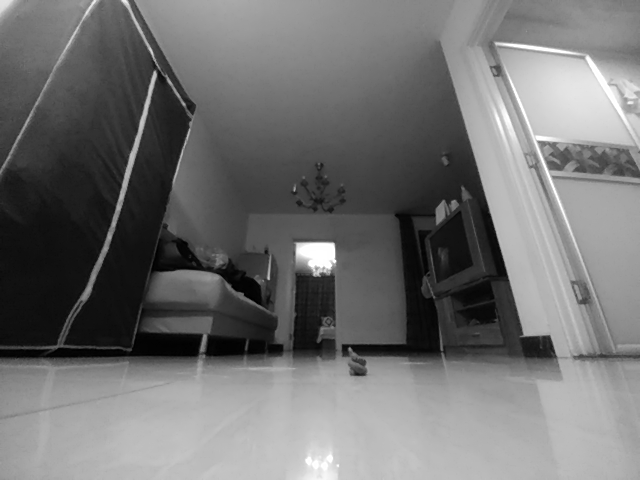curtain: (294, 273, 319, 351)
pet feces: (346, 347, 368, 378)
